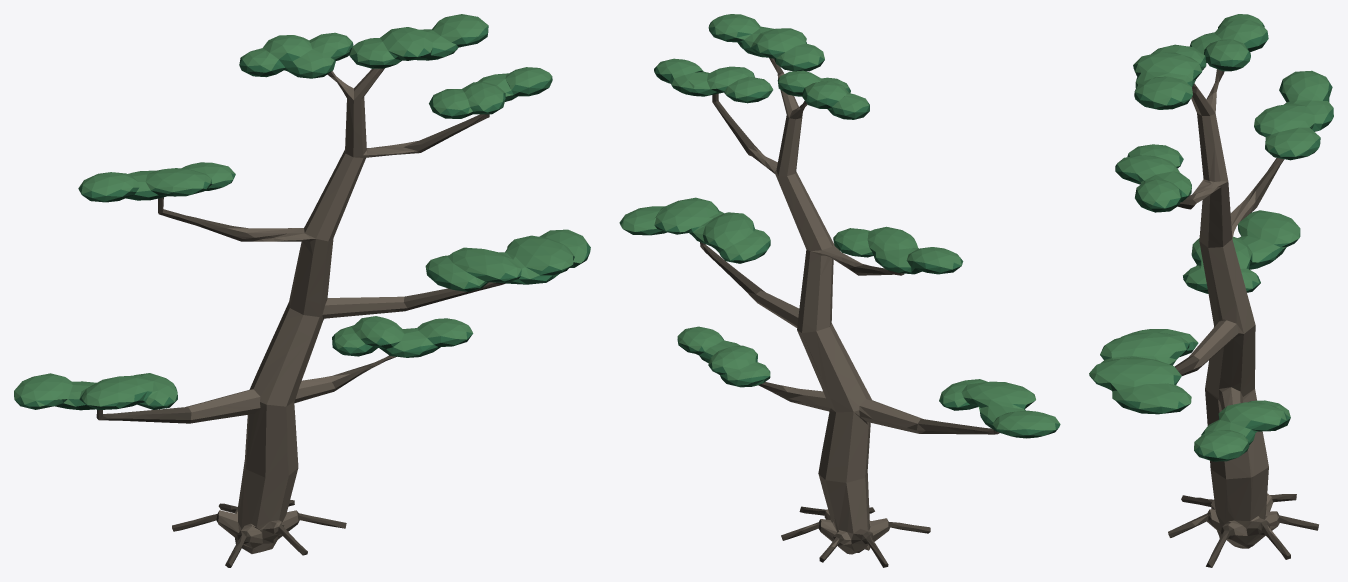
Rendered from ancient-pine-829-lod0.glb.
3 renders of one model, left to right at view 1: azimuth 30°, elevation 25°; view 2: azimuth 150°, elevation 25°; view 3: azimuth 270°, elevation 25°, orthographic. The views are drawn at different scales.
Visible parts, largest first — view 1: n8.004, n12.004, n11.004, n9.004, n10.004; view 2: n12.004, n8.004, n11.004, n9.004, n10.004; view 3: n12.004, n8.004, n11.004, n9.004, n10.004.
Boxes of the visible parts, x1,y1,x2,y2 form: n8.004: (186,68,432,553); n12.004: (14,14,589,406); n11.004: (14,22,590,408); n9.004: (96,72,505,567); n10.004: (16,34,589,410); n12.004: (620,14,1059,430); n8.004: (746,68,925,554); n11.004: (619,21,1060,435); n9.004: (700,58,999,567); n10.004: (622,32,1058,438); n12.004: (1089,14,1333,457); n8.004: (1189,69,1279,548); n11.004: (1089,23,1333,459); n9.004: (1168,69,1318,567); n10.004: (1091,41,1331,461).
Bounding box in the file's own units: 5.73 × 5.43 × 2.18.
